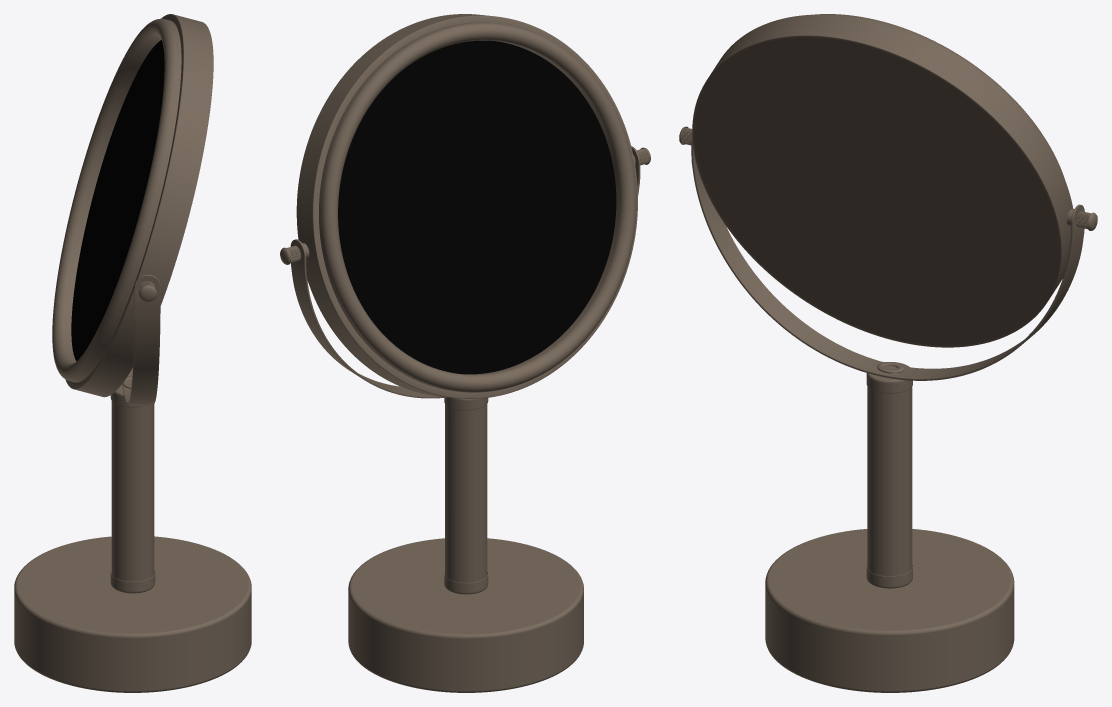
File: Mirror_11.7.fbx
3 renders of one model, left to right at view 1: azimuth 30°, elevation 25°; view 2: azimuth 150°, elevation 25°; view 3: azimuth 270°, elevation 25°, orthographic. The views are drawn at different scales.
Parts seen in each view (by area): view 1: Arch46_038_3; view 2: Arch46_038_3; view 3: Arch46_038_3.
Boxes of the visible parts, left/top/right/bottom form: Arch46_038_3: left=14, top=14, right=251, bottom=692; Arch46_038_3: left=280, top=14, right=650, bottom=692; Arch46_038_3: left=679, top=14, right=1097, bottom=692.
Size of the model in its own units: 15.83 by 44.89 by 26.57.
